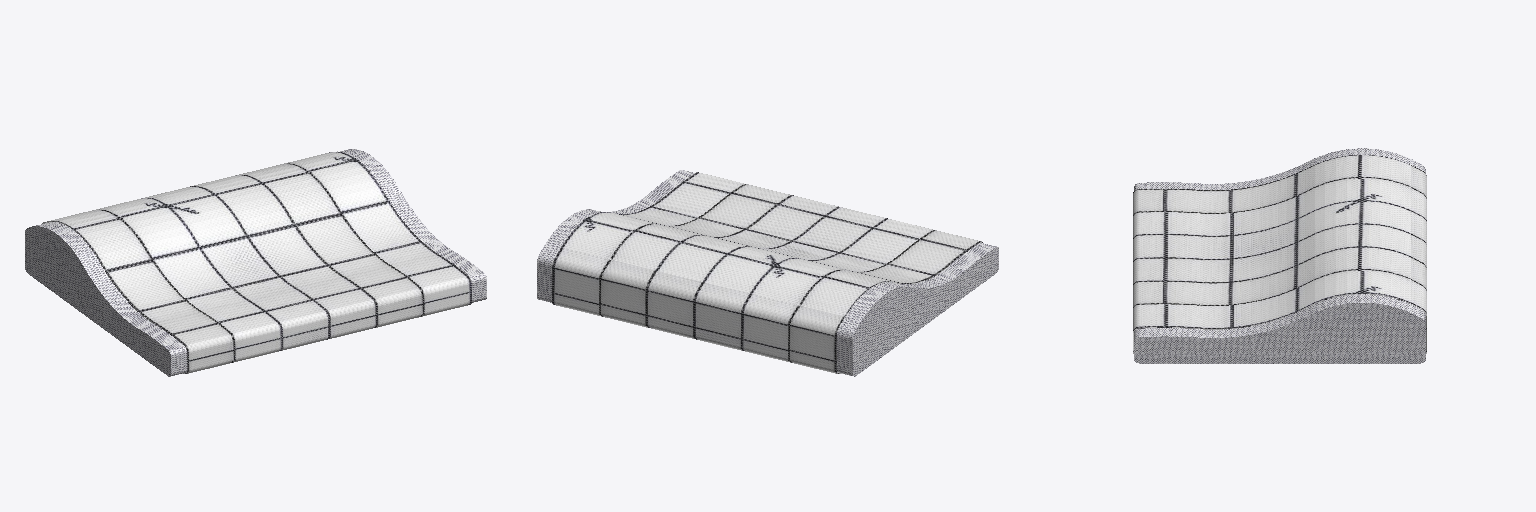
The picture shows the model from 3 angles: view 1: azimuth 30°, elevation 25°; view 2: azimuth 150°, elevation 25°; view 3: azimuth 270°, elevation 25°; orthographic projection.
Parts seen in each view (by area): view 1: pillow6; view 2: pillow6; view 3: pillow6.
Boxes of the visible parts, box(x1,y1,x2,y2) form: pillow6: box(25, 149, 486, 376); pillow6: box(537, 170, 998, 376); pillow6: box(1133, 148, 1426, 363).
Bounding box in the file's own units: 5.76 × 1.11 × 4.65.
2 materials, 2 textured.